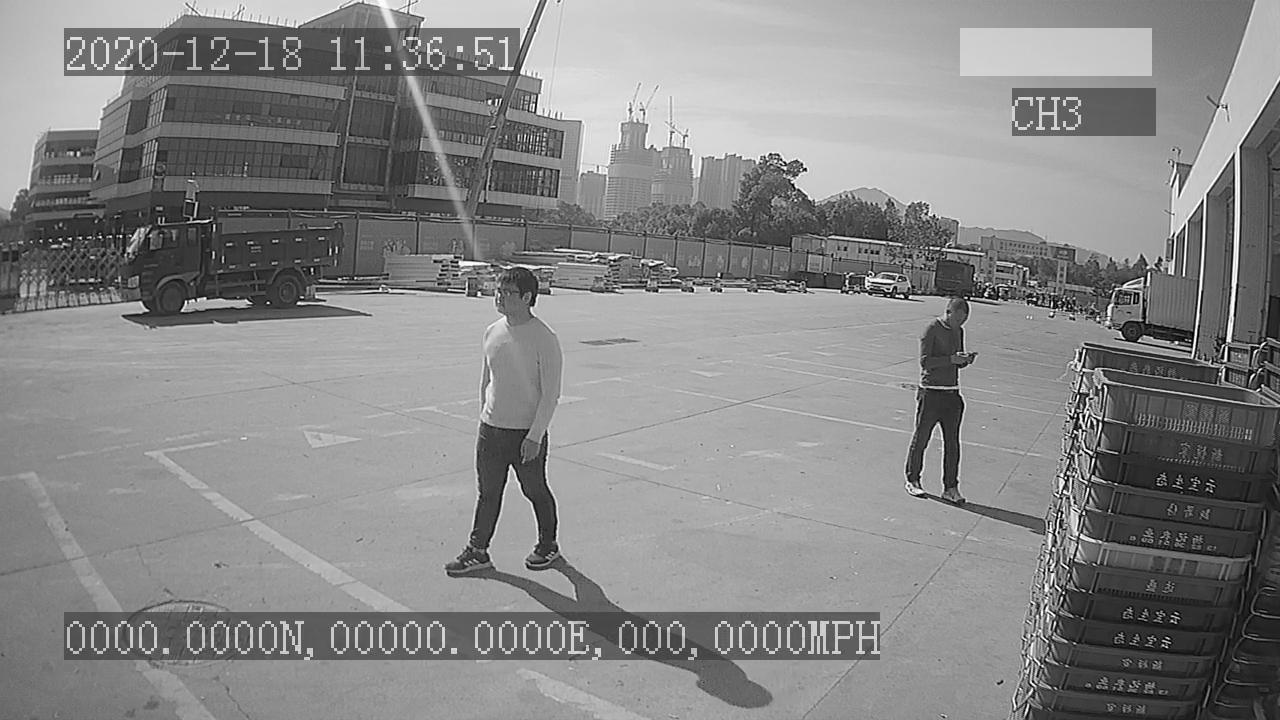person: (439, 262, 579, 579), (902, 290, 975, 503)
